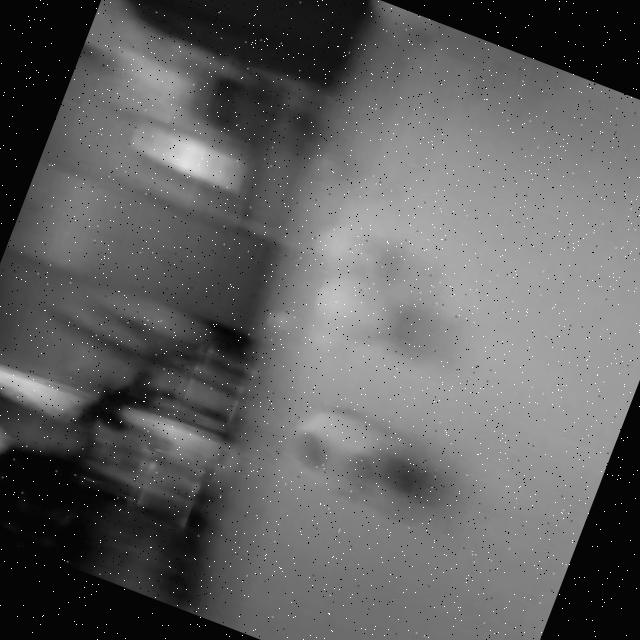ping-pong-ball: (286, 392, 454, 532), (318, 268, 436, 370), (310, 210, 412, 291)
